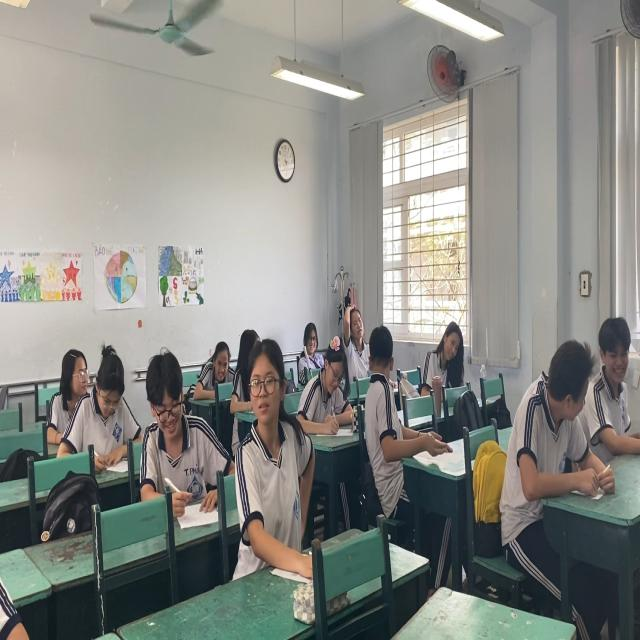cheating: (508, 343, 608, 488), (360, 326, 407, 460)
not_cheating: (230, 337, 302, 550), (138, 358, 204, 467), (590, 302, 638, 446), (47, 330, 98, 413), (94, 346, 133, 444), (424, 319, 476, 388), (318, 350, 354, 426), (340, 284, 374, 350), (205, 333, 232, 402), (298, 319, 318, 367)
